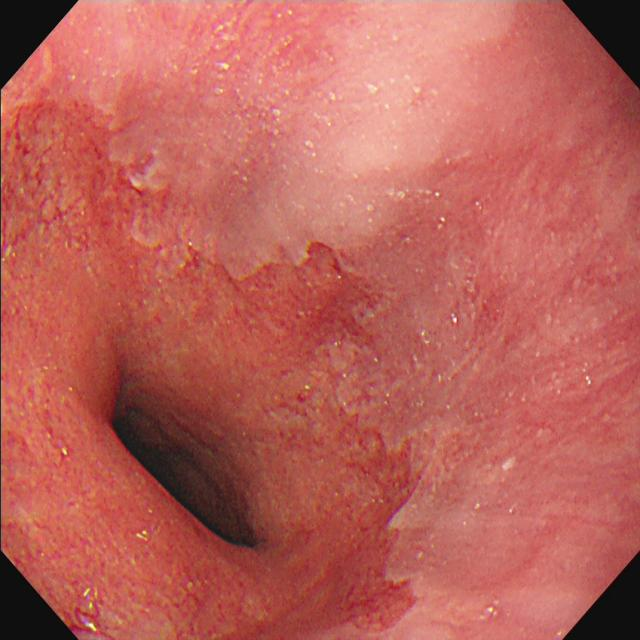D: (2, 91, 157, 261), (252, 233, 383, 363), (323, 553, 426, 640)
E: (90, 366, 268, 569)
